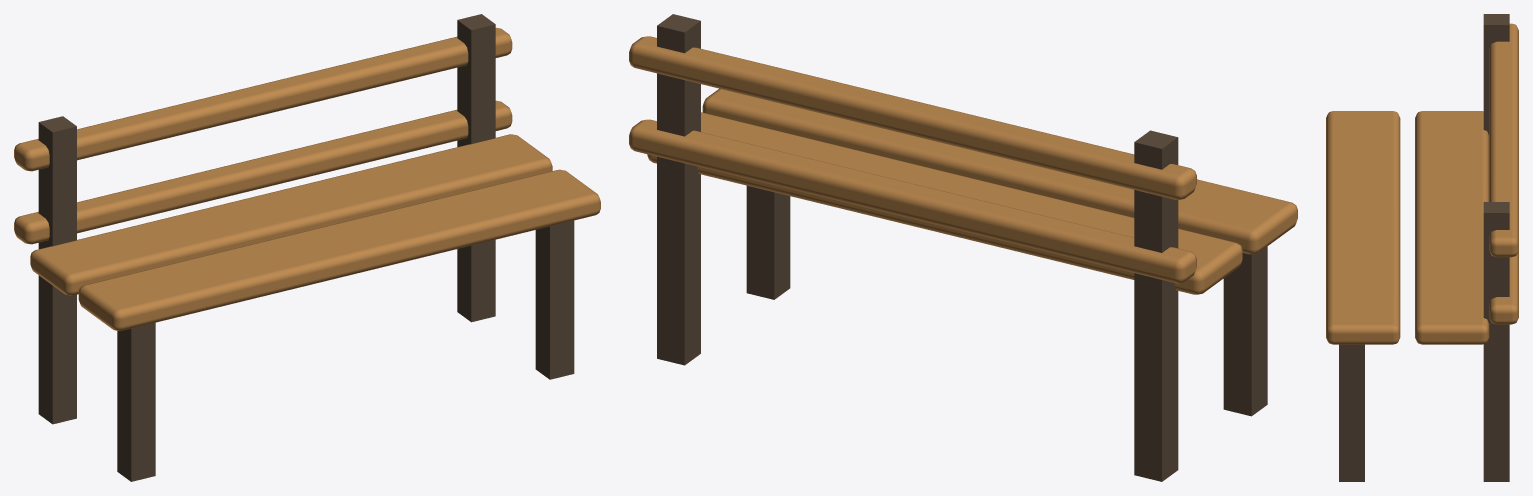
File: bench.glb
The picture shows the model from 3 angles, left to right: view 1: azimuth 30°, elevation 25°; view 2: azimuth 150°, elevation 25°; view 3: azimuth 270°, elevation 25°; orthographic projection. The views are drawn at different scales.
Bounding box in the file's own units: 1.4 × 0.8 × 0.52.
